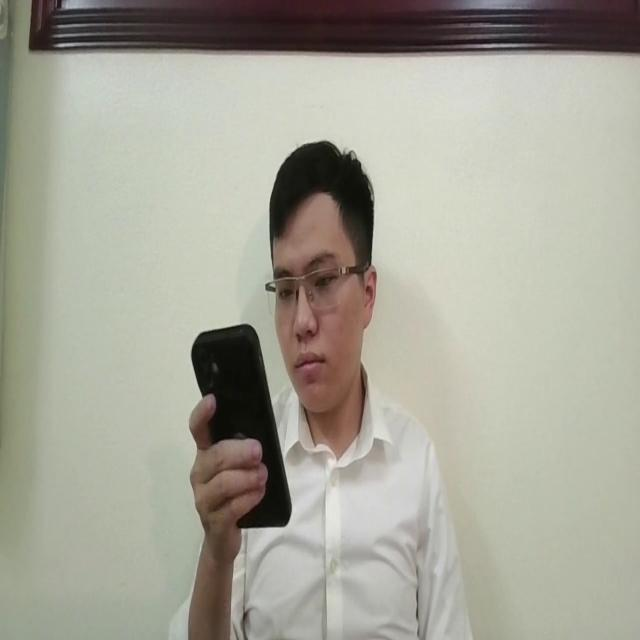phone: (189, 314, 295, 534)
student: (166, 130, 473, 640)
